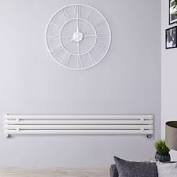Radiator: (4, 112, 155, 140)
